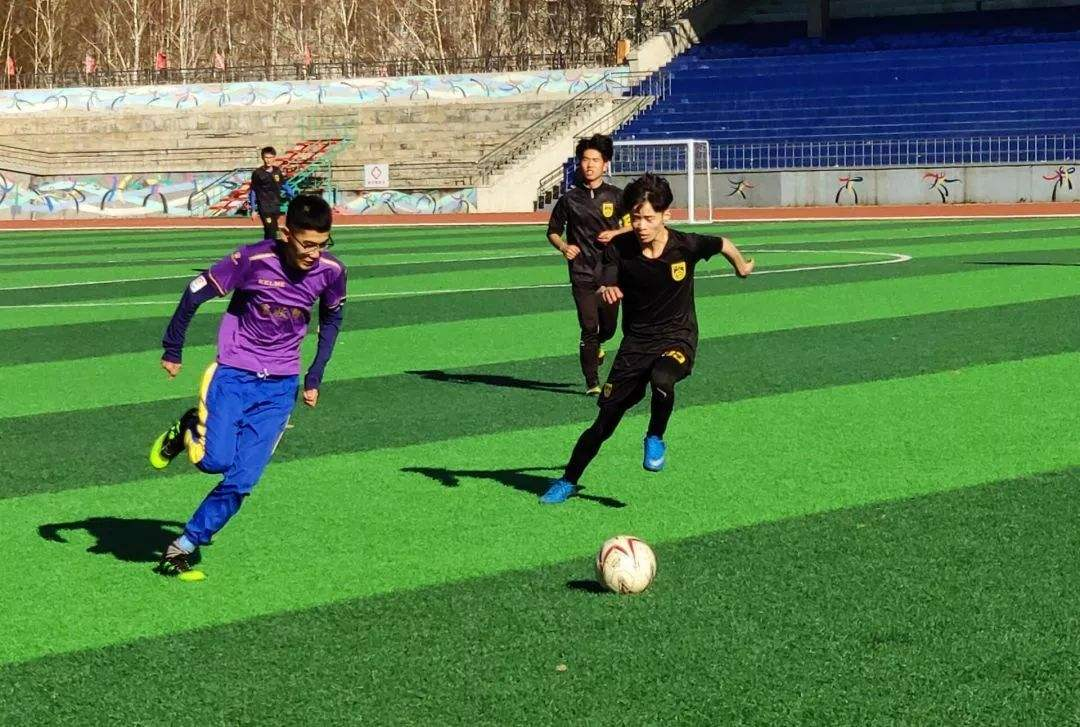football: (595, 532, 657, 594)
